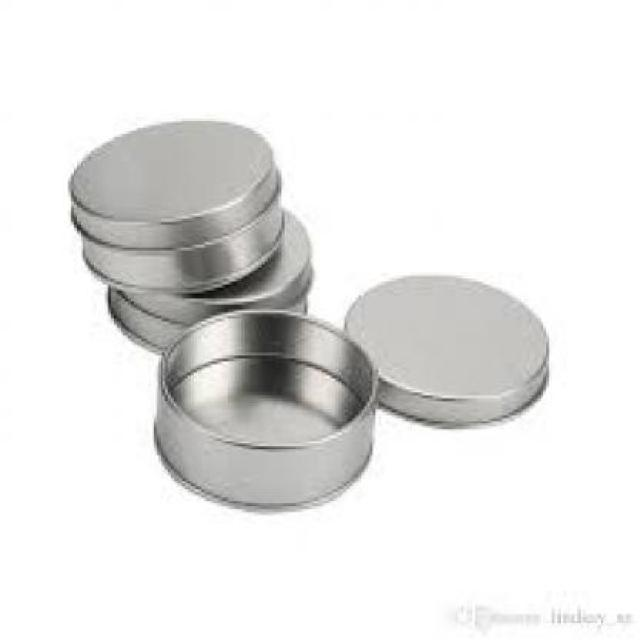metal: (151, 305, 372, 509), (69, 117, 280, 291), (345, 274, 547, 428), (106, 208, 311, 353)
